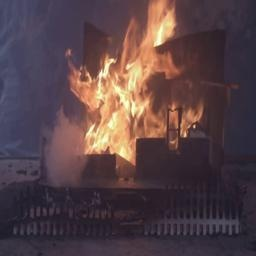fire: (65, 0, 195, 165)
